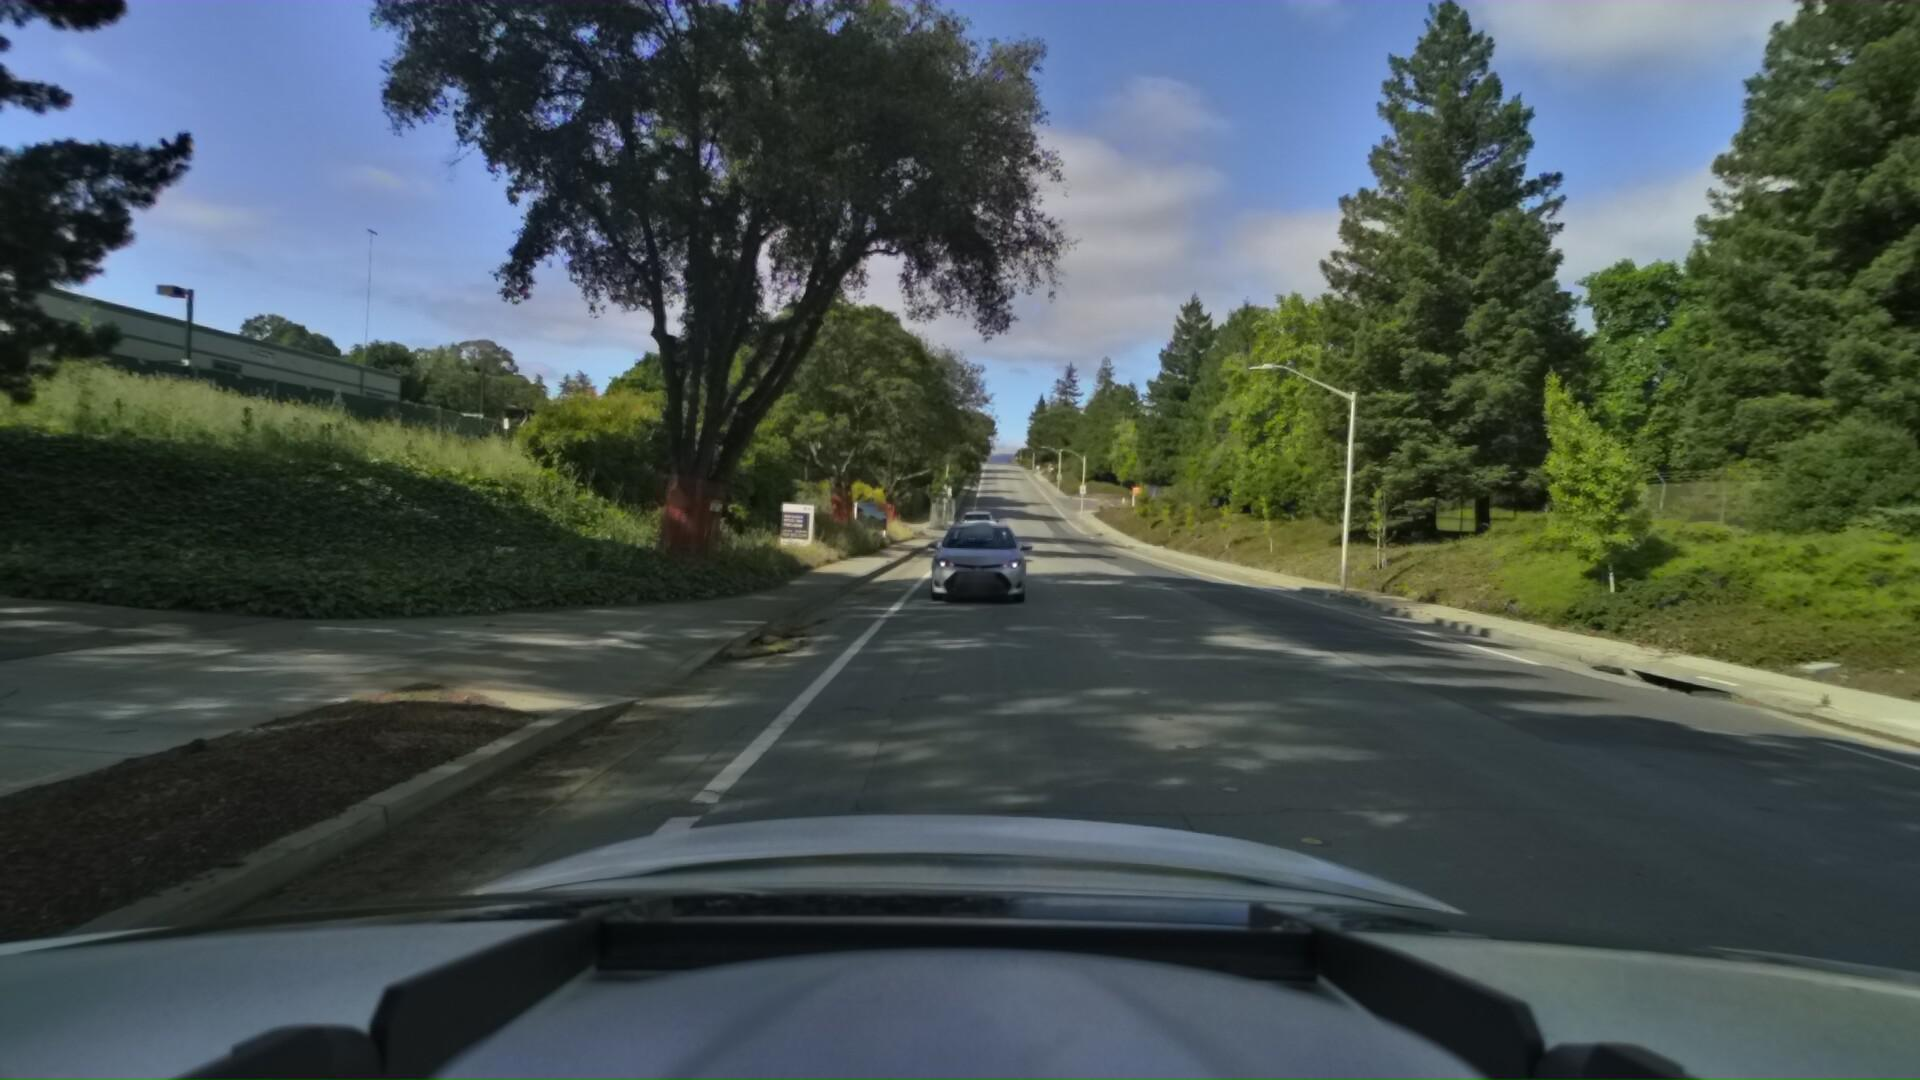car: (920, 508, 1036, 613), (951, 510, 1011, 564)
